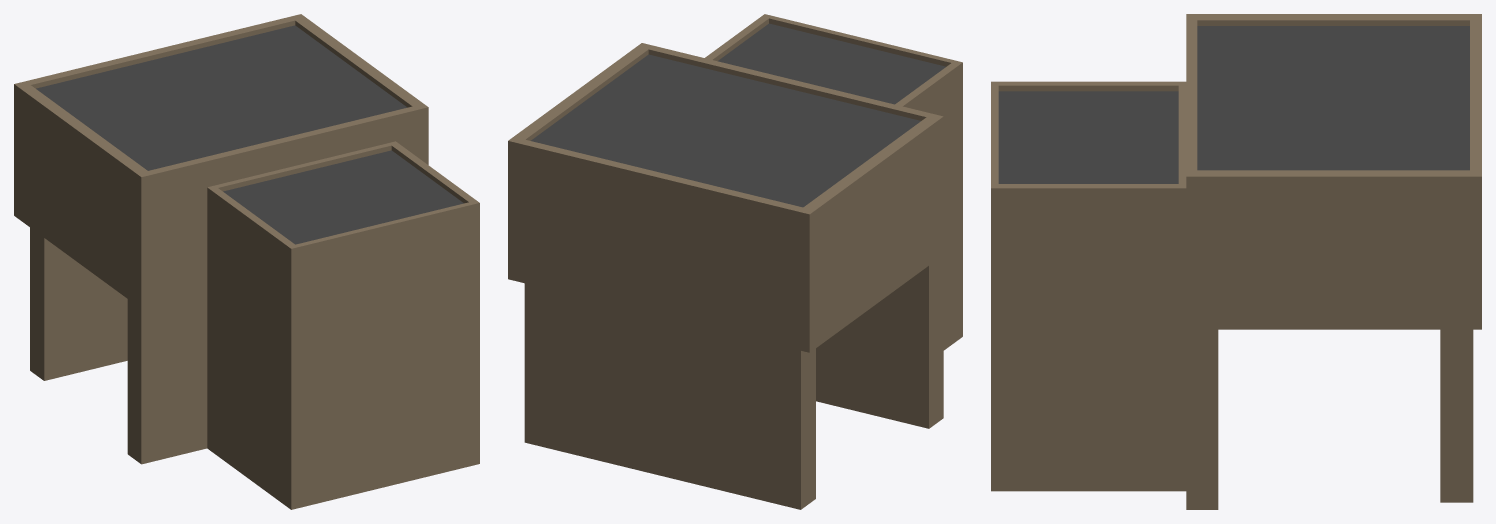
File: WeirdBuilding.fbx
The picture shows the model from 3 angles, left to right: view 1: azimuth 30°, elevation 25°; view 2: azimuth 150°, elevation 25°; view 3: azimuth 270°, elevation 25°; orthographic projection. The views are drawn at different scales.
Visible parts, largest first — view 1: WeirdBuilding_LOD0; view 2: WeirdBuilding_LOD0; view 3: WeirdBuilding_LOD0.
Part boxes in pixels (bbox=[...]): WeirdBuilding_LOD0: bbox=[14, 14, 479, 509]; WeirdBuilding_LOD0: bbox=[508, 14, 962, 509]; WeirdBuilding_LOD0: bbox=[991, 14, 1481, 509].
Size of what is drawn, in the model's own units: 1143 by 1092 by 1458.
Materials: 1 (1 with a texture image).
